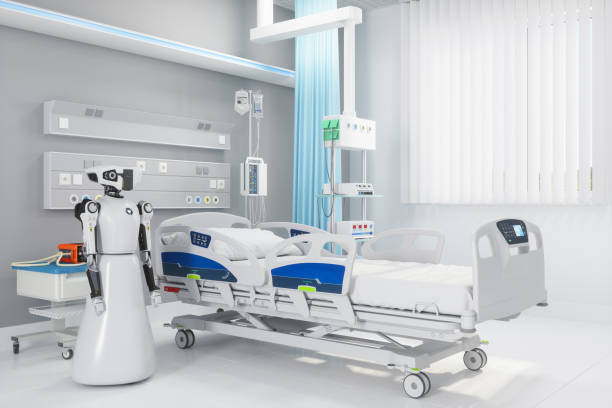bedrail: (152, 224, 268, 299), (266, 230, 357, 296), (254, 219, 347, 258), (359, 227, 447, 265)
bedside_table: (9, 262, 84, 330)
foot_board: (474, 219, 554, 326)
hospital_bed: (155, 212, 546, 399)
infusion_pump: (239, 156, 268, 199)
iv_pole: (232, 88, 268, 222)
